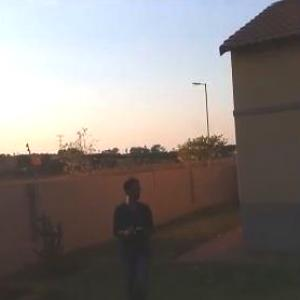follow: (108, 172, 160, 299)
